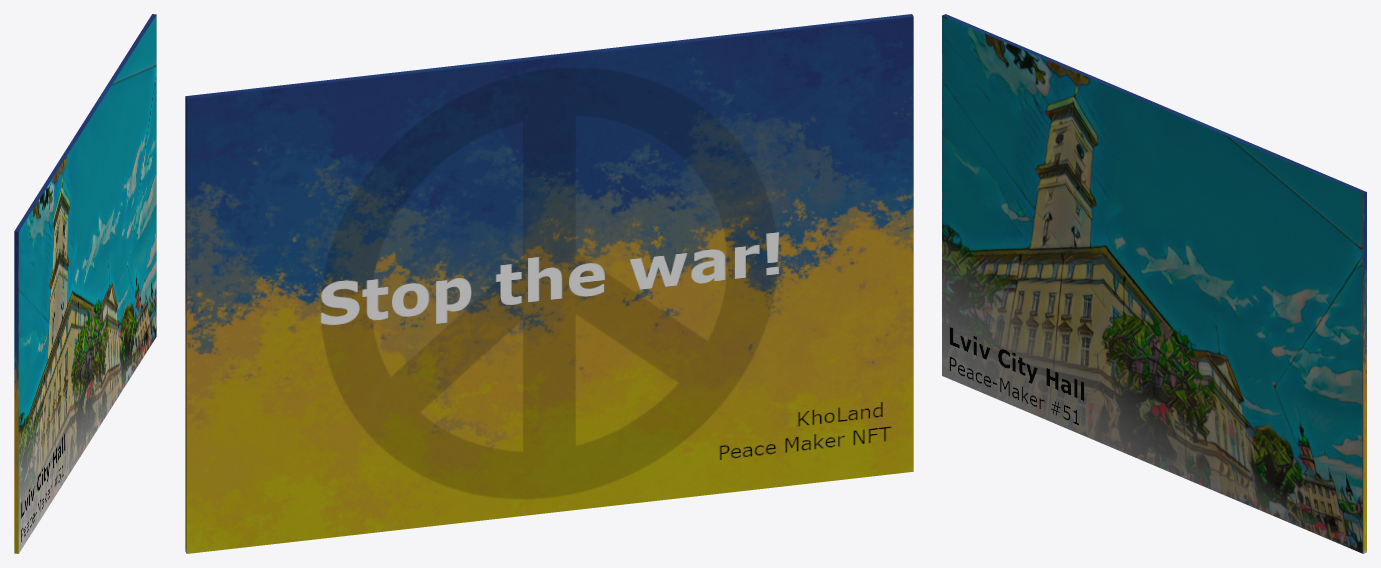
The model's file is peace_maker_51.glb.
The picture shows the model from 3 angles, left to right: view 1: azimuth 30°, elevation 25°; view 2: azimuth 150°, elevation 25°; view 3: azimuth 270°, elevation 25°; orthographic projection. The views are drawn at different scales.
Parts seen in each view (by area): view 1: Cube; view 2: Cube; view 3: Cube.
Boxes of the visible parts, bbox=[...] form: Cube: bbox=[14, 14, 156, 553]; Cube: bbox=[185, 14, 913, 553]; Cube: bbox=[942, 14, 1366, 553].
Size of the model in its own units: 8.55 by 8 by 8.55.
2 materials, 2 textured.
